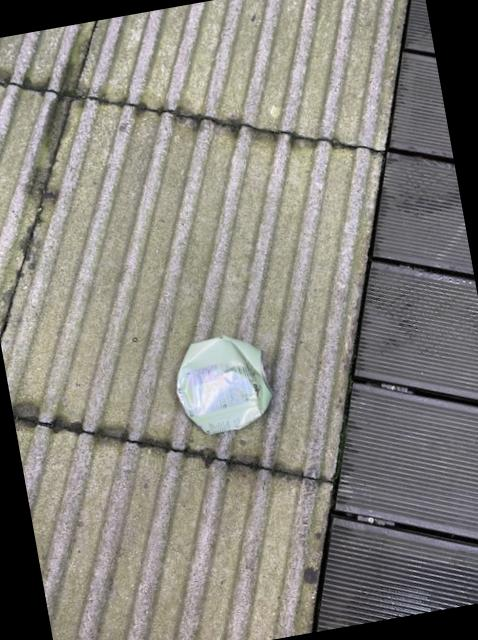metal: (176, 336, 272, 434)
